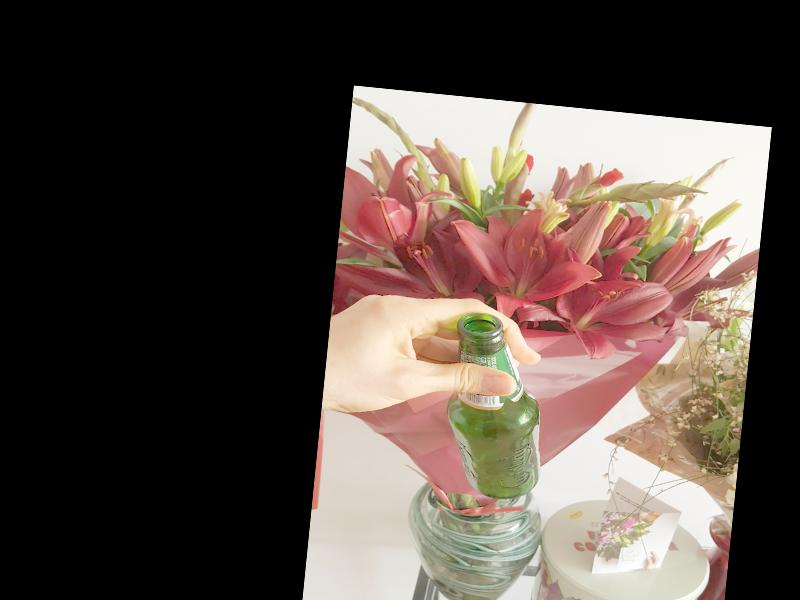Beer: (438, 311, 555, 502)
